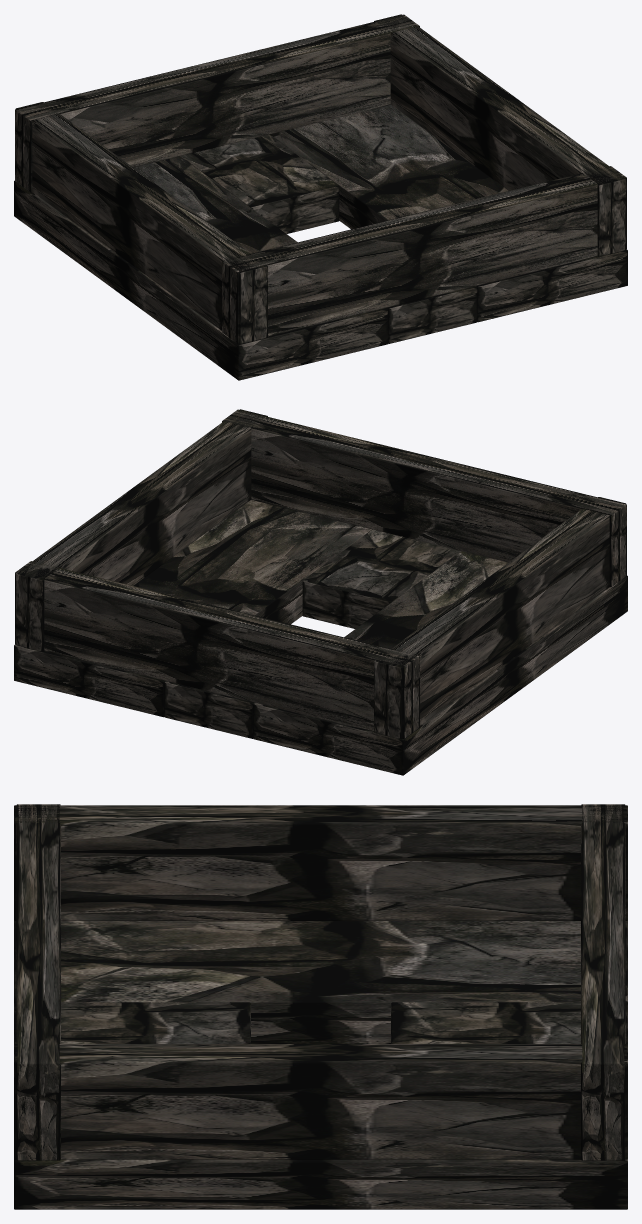
File: fortress_tower_roof_platform_LOD2.glb
3 views of the same model, one above another, from view 1: azimuth 30°, elevation 25°; view 2: azimuth 150°, elevation 25°; view 3: azimuth 270°, elevation 25° (orthographic). The views are drawn at different scales.
Visible parts, largest first — view 1: LOD_Parapet.004, LOD_Parapet.005, LOD_Parapet.006, LOD_DeckRight.001, LOD_DeckLeft.001, LOD_Parapet.007, LOD_DeckNorth.001, LOD_DeckSouth.001; view 2: LOD_Parapet.005, LOD_Parapet.004, LOD_Parapet.006, LOD_DeckRight.001, LOD_DeckLeft.001, LOD_Parapet.007, LOD_DeckSouth.001, LOD_DeckNorth.001; view 3: LOD_Parapet.006, LOD_Parapet.007, LOD_DeckLeft.001, LOD_DeckRight.001, LOD_Parapet.005, LOD_Parapet.004, LOD_DeckNorth.001, LOD_DeckSouth.001.
Boxes of the visible parts, x1,y1,x2,y2 form: LOD_Parapet.004: (222,166,626,343); LOD_Parapet.005: (15,14,419,192); LOD_Parapet.006: (16,102,267,344); LOD_DeckRight.001: (269,105,627,322); LOD_DeckLeft.001: (14,156,388,380); LOD_Parapet.007: (374,14,626,256); LOD_DeckNorth.001: (180,134,339,233); LOD_DeckSouth.001: (387,286,477,343); LOD_Parapet.005: (15,561,419,738); LOD_Parapet.004: (222,409,626,587); LOD_Parapet.006: (374,497,625,739); LOD_DeckRight.001: (14,500,372,717); LOD_DeckLeft.001: (253,551,627,775); LOD_Parapet.007: (15,409,267,651); LOD_DeckSouth.001: (302,529,461,628); LOD_DeckNorth.001: (164,681,254,738); LOD_Parapet.006: (14,805,627,920); LOD_Parapet.007: (14,1044,627,1159); LOD_DeckLeft.001: (14,920,627,1043); LOD_DeckRight.001: (14,1159,627,1209); LOD_Parapet.005: (581,804,625,1160); LOD_Parapet.004: (16,804,60,1160); LOD_DeckNorth.001: (391,1002,627,1044); LOD_DeckSouth.001: (14,1002,250,1044).
Bounding box in the file's own units: 6.35 × 1.68 × 6.35.
Materials: 1 (1 with a texture image).
